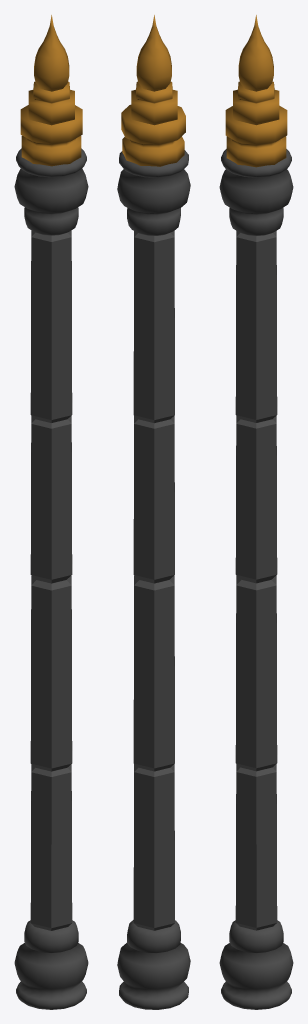
File: SM_column_04.fbx
3 renders of one model, left to right at view 1: azimuth 90°, elevation 25°; view 2: azimuth 210°, elevation 25°; view 3: azimuth 270°, elevation 25°, orthographic.
Visible parts, largest first — view 1: Object33156; view 2: Object33156; view 3: Object33156.
Part boxes in pixels (box(x1,y1,x2,y2)): Object33156: box(14, 15, 88, 1009); Object33156: box(117, 15, 190, 1009); Object33156: box(219, 15, 293, 1009).
Size of the model in its own units: 45.63 by 669 by 45.63.
